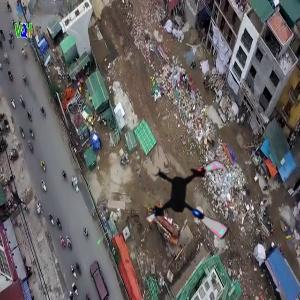drone: (142, 151, 244, 253)
